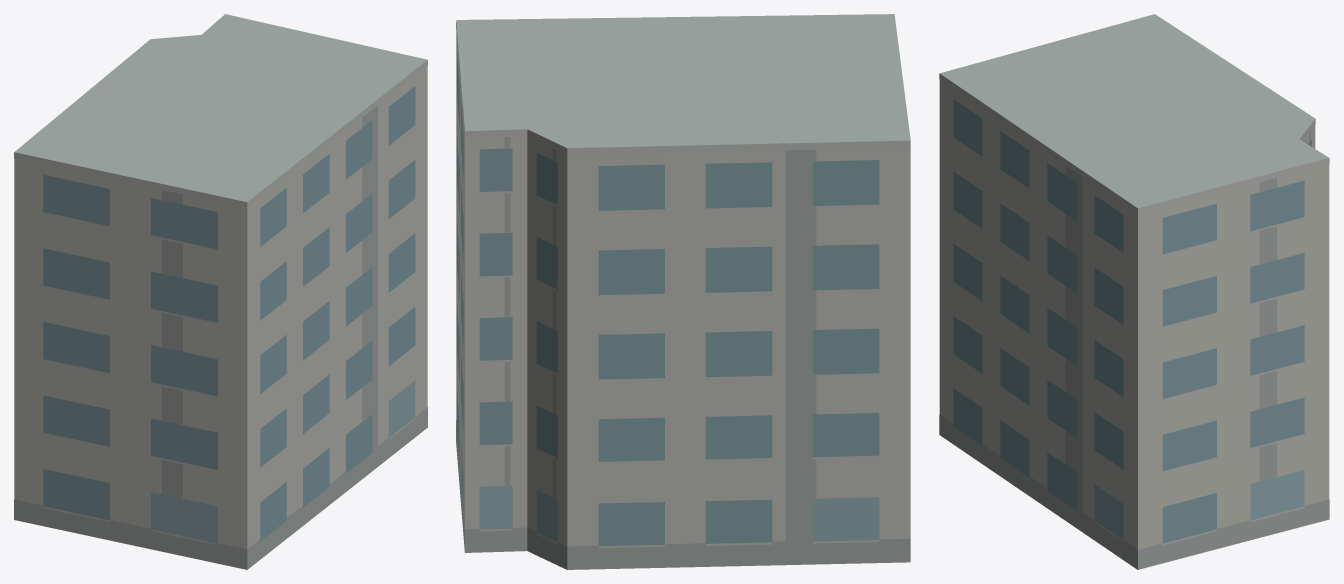
The model's file is residential-e0c8f72e-6c92-4c9c-8293-2e4679ca5eba.glb.
3 views of the same model, side by side, from view 1: azimuth 30°, elevation 25°; view 2: azimuth 150°, elevation 25°; view 3: azimuth 270°, elevation 25° (orthographic). The views are drawn at different scales.
Visible parts, largest first — view 1: residential-e0c8f72e-6c92-4c9c-8293-2e4679ca5eba.tmp; view 2: residential-e0c8f72e-6c92-4c9c-8293-2e4679ca5eba.tmp; view 3: residential-e0c8f72e-6c92-4c9c-8293-2e4679ca5eba.tmp.
Boxes of the visible parts, x1,y1,x2,y2 form: residential-e0c8f72e-6c92-4c9c-8293-2e4679ca5eba.tmp: (14, 14, 427, 569); residential-e0c8f72e-6c92-4c9c-8293-2e4679ca5eba.tmp: (456, 14, 910, 569); residential-e0c8f72e-6c92-4c9c-8293-2e4679ca5eba.tmp: (939, 14, 1329, 569).
Size of the model in its own units: 16.84 by 14.6 by 14.28.
